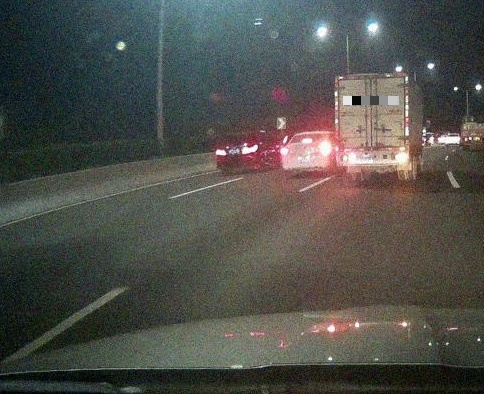L_light: (343, 154, 356, 162), (216, 149, 226, 156), (282, 148, 291, 154)
R_light: (241, 145, 258, 154), (395, 153, 408, 161), (320, 146, 331, 153)
T_light: (364, 79, 377, 82), (303, 139, 312, 143), (237, 137, 246, 139)
night-brake: (281, 132, 333, 176)
night-no: (335, 73, 409, 184), (215, 136, 260, 173)
plate_1: (343, 96, 399, 105)
